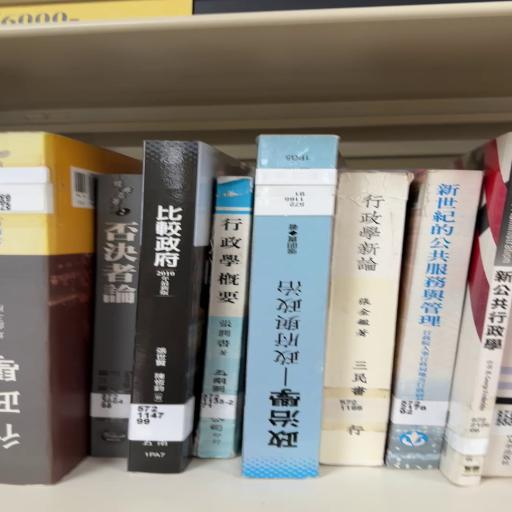reverse: (243, 135, 339, 480)
